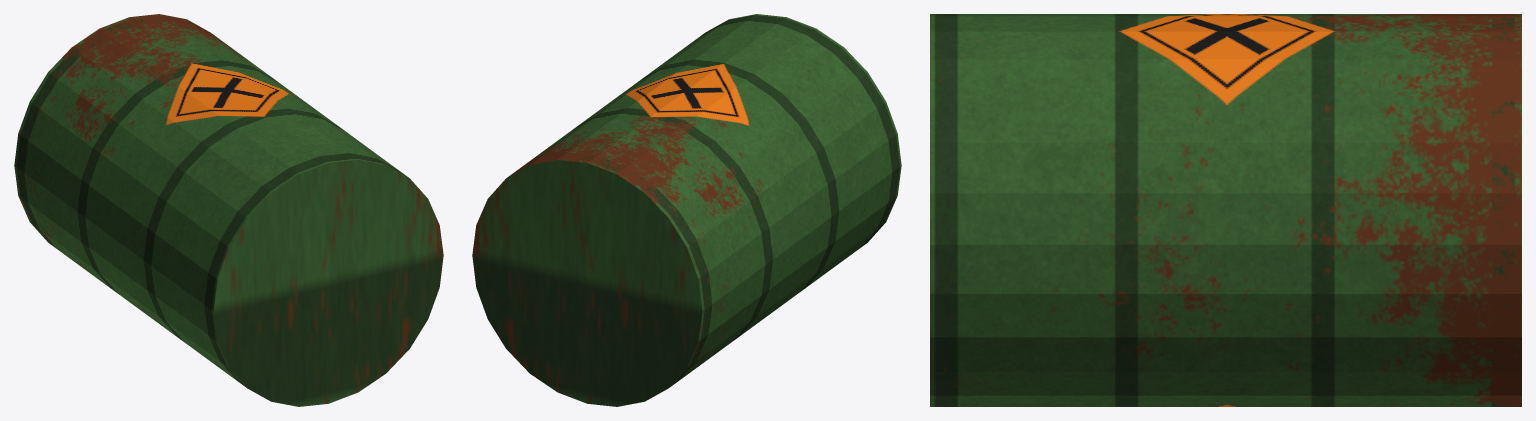
The model's file is drum_toxic.obj.
3 renders of one model, left to right at view 1: azimuth 30°, elevation 25°; view 2: azimuth 150°, elevation 25°; view 3: azimuth 270°, elevation 25°, orthographic. The views are drawn at different scales.
Bounding box in the file's own units: 0.6 × 0.6 × 0.9.
1 material, 1 textured.
